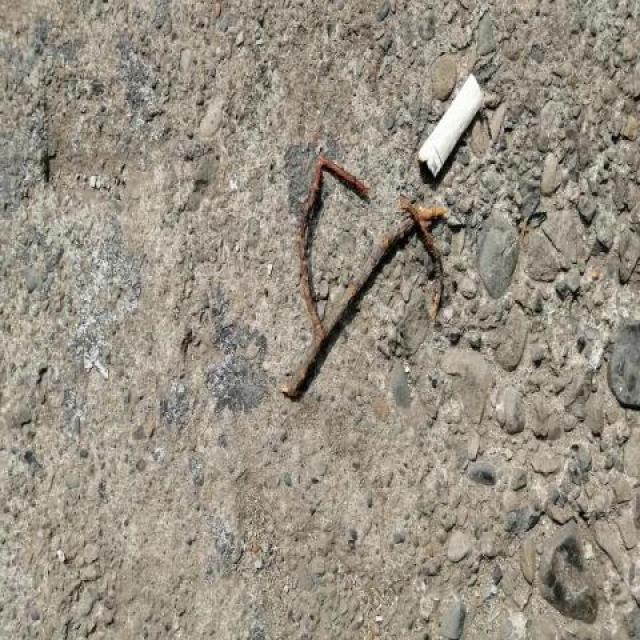non-organic waste: (414, 68, 489, 187)
